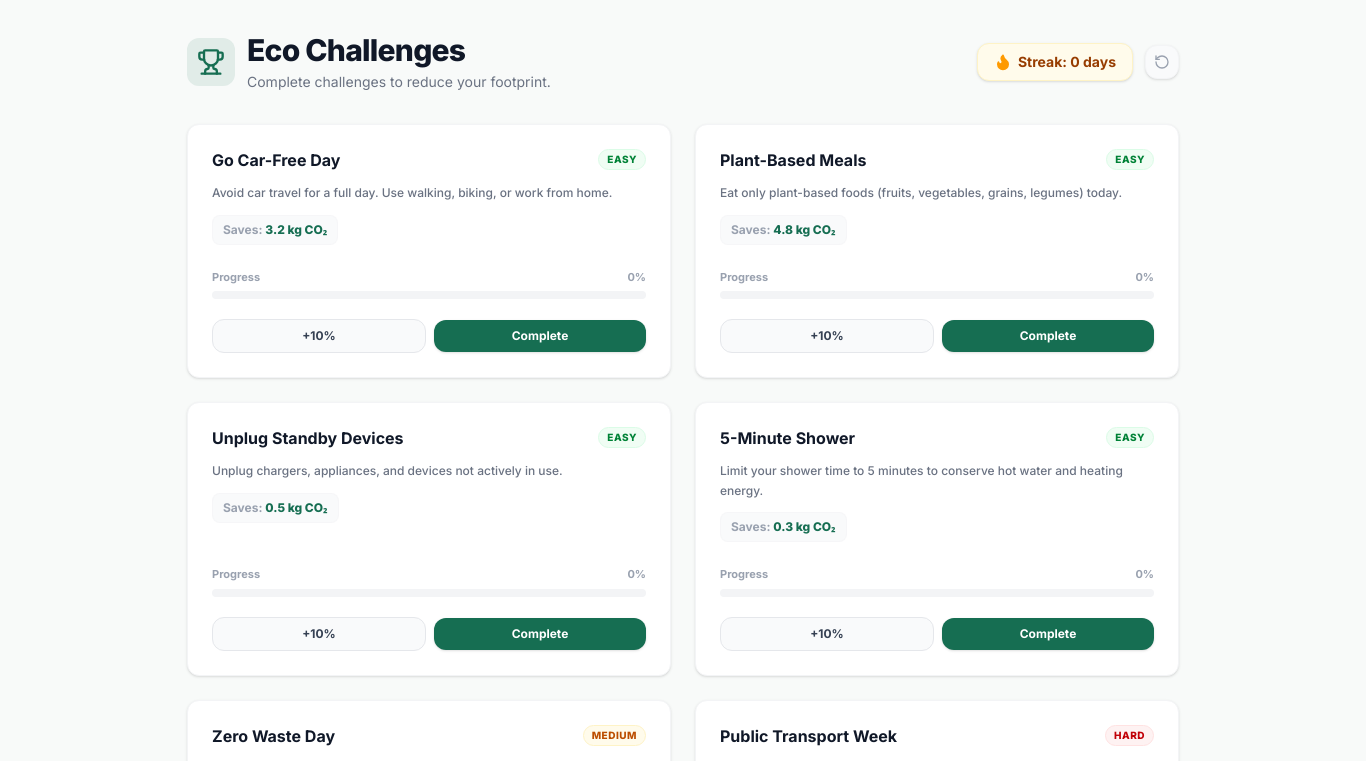
Test: Challenges › completing a challenge increments progress and streak
Click the first complete button
Click the button "Complete" below "3.2". click: (540, 336)
box: [434,320,646,352]
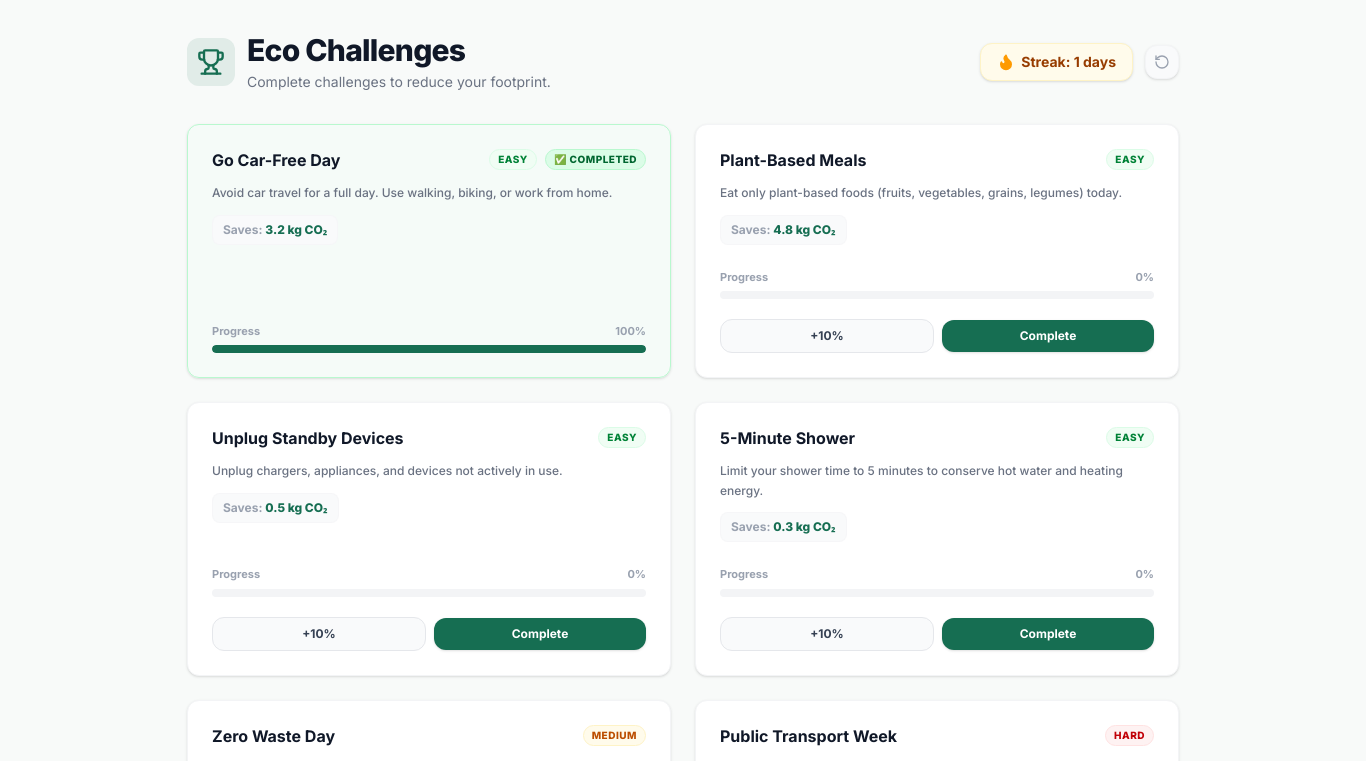
Expected: the text "✅ Completed" is shown, [545,149,646,170]
Expected: the text "Streak: 1 days" is shown, [1021,52,1116,72]
